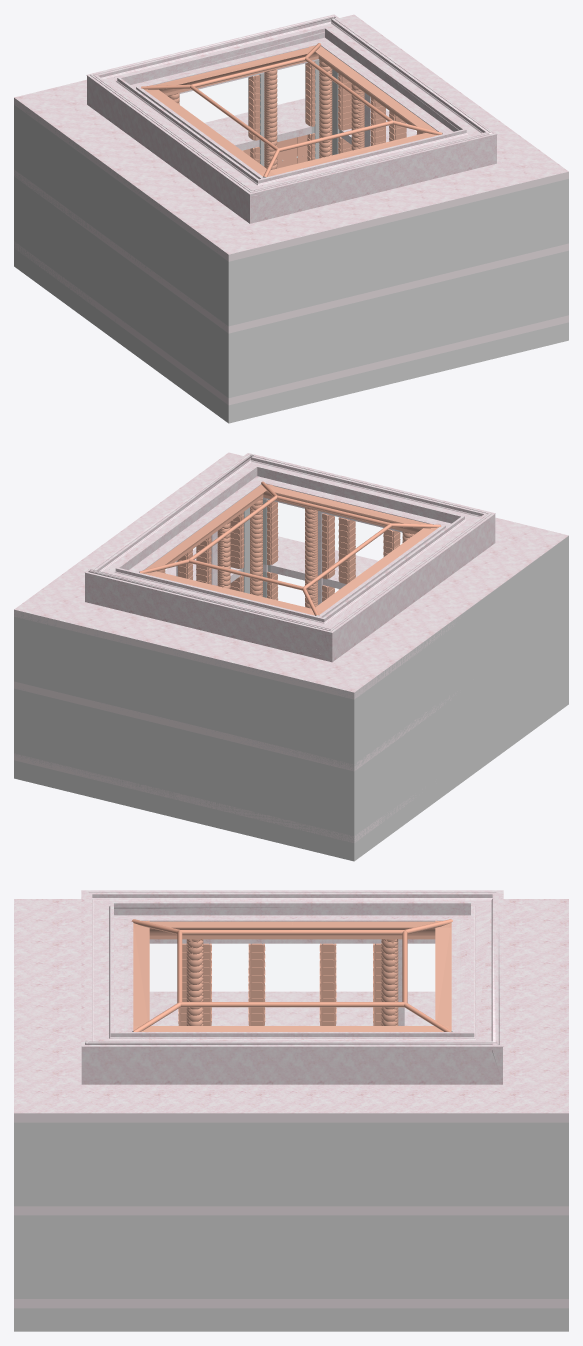
Rendered from project16.glb.
The picture shows the model from 3 angles, top to bottom: view 1: azimuth 30°, elevation 25°; view 2: azimuth 150°, elevation 25°; view 3: azimuth 270°, elevation 25°; orthographic projection. The views are drawn at different scales.
Visible parts, largest first — view 1: kő - rózsaszín márvány; view 2: kő - rózsaszín márvány; view 3: kő - rózsaszín márvány.
Part boxes in pixels (left/top/right/bottom): kő - rózsaszín márvány: left=14, top=14, right=568, bottom=423; kő - rózsaszín márvány: left=14, top=452, right=568, bottom=861; kő - rózsaszín márvány: left=14, top=890, right=568, bottom=1331.
Bounding box in the file's own units: 3 × 1.69 × 3.28.
Materials: 8 (2 with a texture image).
